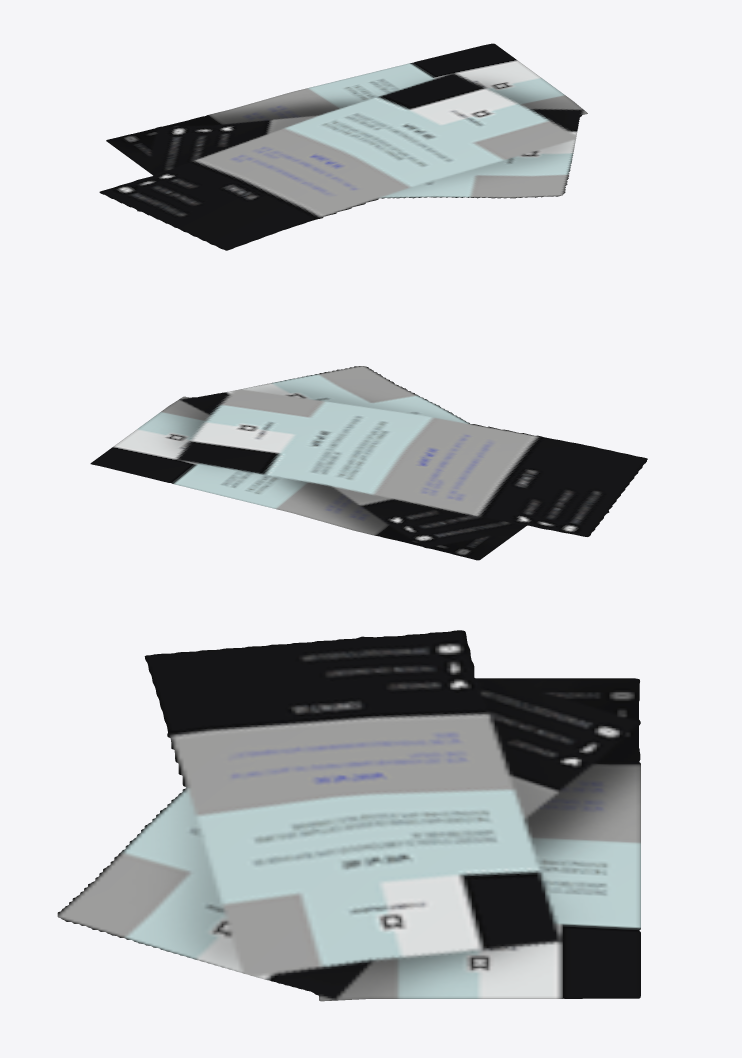
The model's file is Loose_Leaflets.FBX.
3 views of the same model, one above another, from view 1: azimuth 30°, elevation 25°; view 2: azimuth 150°, elevation 25°; view 3: azimuth 270°, elevation 25° (orthographic). The views are drawn at different scales.
Parts seen in each view (by area): view 1: Loose_Leaflets; view 2: Loose_Leaflets; view 3: Loose_Leaflets.
Part boxes in pixels (bbox=[...]): Loose_Leaflets: bbox=[99, 43, 587, 250]; Loose_Leaflets: bbox=[90, 366, 647, 560]; Loose_Leaflets: bbox=[57, 630, 640, 1001].
Size of the model in its own units: 764 by 14.73 by 549.
Materials: 1 (1 with a texture image).
